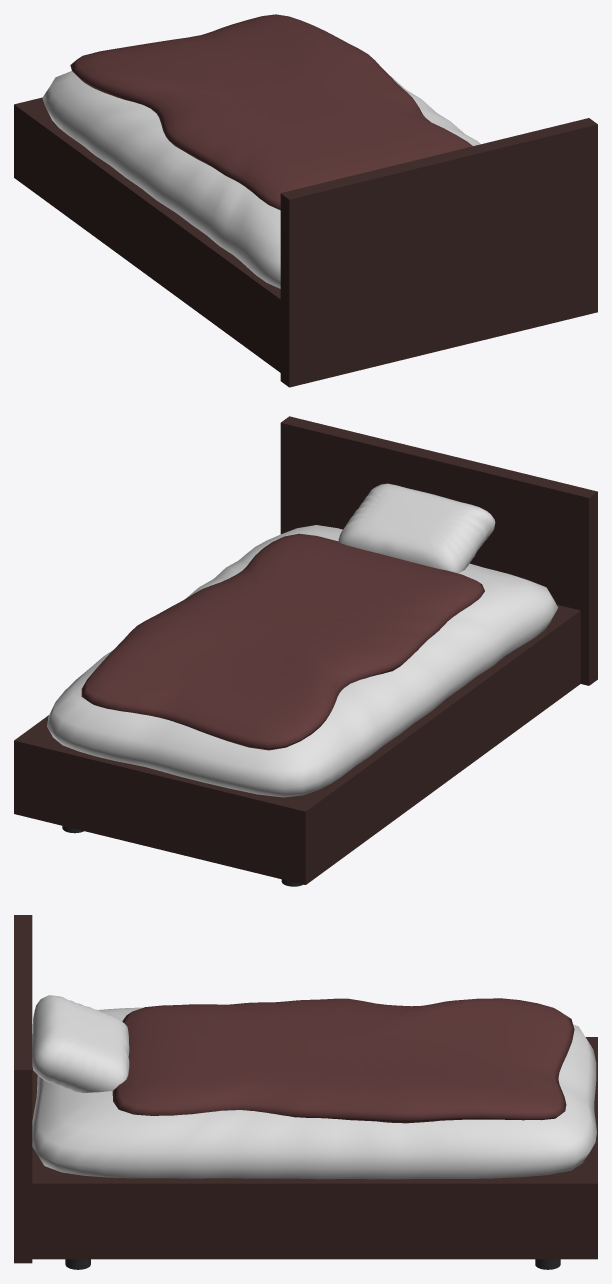
The model's file is Lit1_5.fbx.
3 renders of one model, top to bottom at view 1: azimuth 30°, elevation 25°; view 2: azimuth 150°, elevation 25°; view 3: azimuth 270°, elevation 25°, orthographic. The views are drawn at different scales.
Visible parts, largest first — view 1: pCube2134, pCylinder1817, pCube2135, pCylinder1506; view 2: pCylinder1817, pCube2135, pCylinder1506, pCube2134, pCylinder1507; view 3: pCylinder1817, pCube2135, pCylinder1506, pCylinder1507, pCube2134, pCylinder1508.
Part boxes in pixels (x1,y1,x2,y2): pCube2134: [280, 118, 597, 387]; pCylinder1817: [70, 14, 472, 210]; pCube2135: [14, 97, 280, 372]; pCylinder1506: [42, 71, 480, 288]; pCylinder1817: [81, 533, 484, 750]; pCube2135: [14, 605, 580, 884]; pCylinder1506: [47, 525, 558, 797]; pCube2134: [280, 416, 597, 685]; pCylinder1507: [338, 483, 495, 573]; pCylinder1817: [112, 998, 574, 1123]; pCube2135: [32, 1037, 597, 1259]; pCylinder1506: [32, 1007, 596, 1179]; pCylinder1507: [32, 995, 129, 1092]; pCube2134: [14, 915, 32, 1263]; pCylinder1508: [65, 1259, 560, 1269].
Bounding box in the file's own units: 89.96 × 58.72 × 143.
